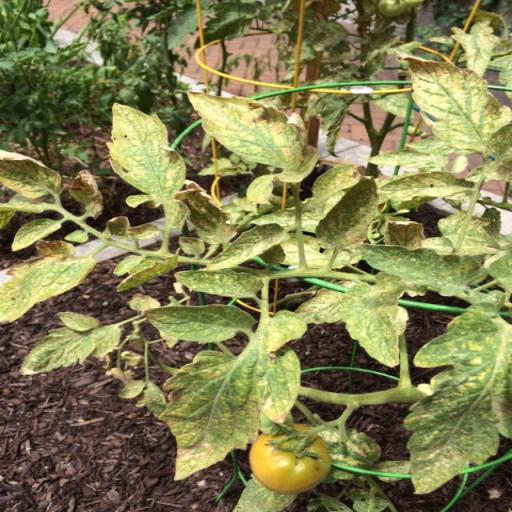Spider Mites: (160, 308, 309, 483), (401, 300, 512, 498), (184, 88, 323, 185), (401, 55, 512, 159), (106, 100, 187, 206), (355, 239, 484, 298), (337, 271, 410, 367), (314, 174, 381, 253), (202, 220, 291, 272), (138, 306, 256, 345), (172, 267, 264, 301)
